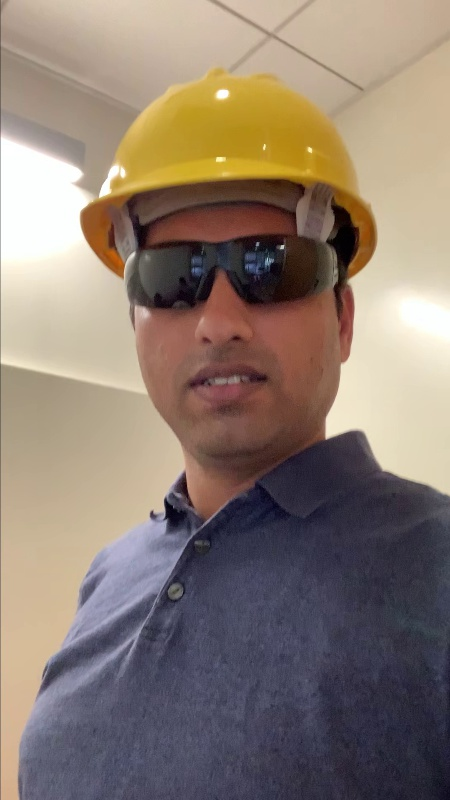glasses: (116, 238, 343, 308)
helmet: (76, 66, 381, 240)
